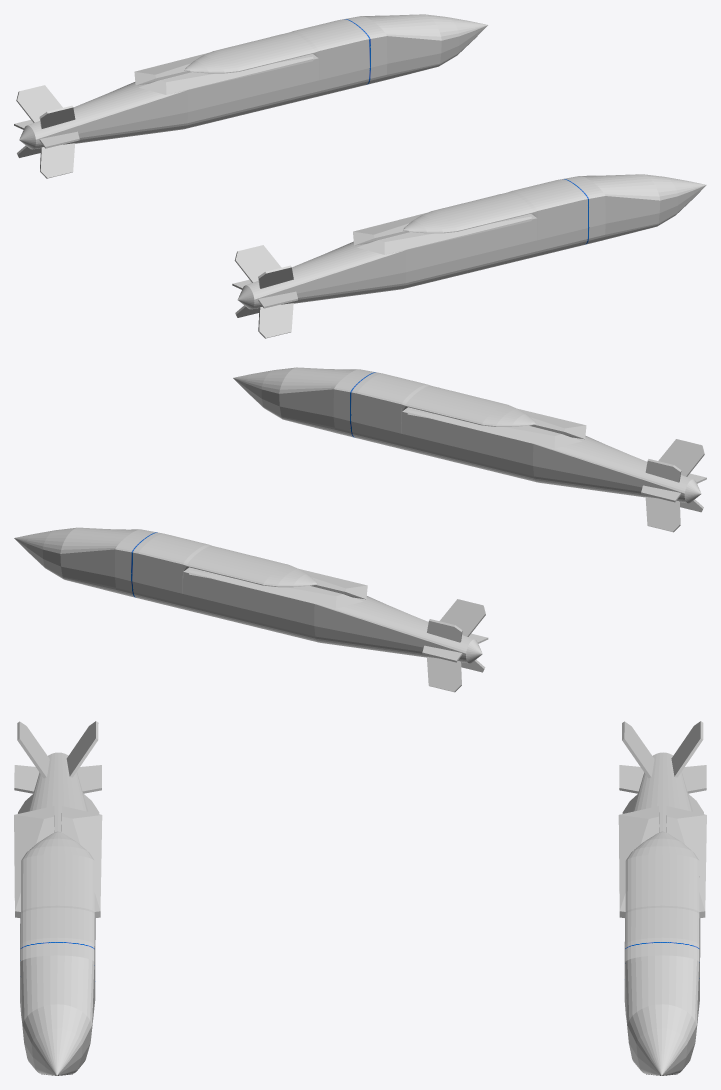
File: f16cagm15423.glb
3 renders of one model, top to bottom at view 1: azimuth 30°, elevation 25°; view 2: azimuth 150°, elevation 25°; view 3: azimuth 270°, elevation 25°, orthographic. The views are drawn at different scales.
Visible parts, largest first — view 1: 立方体.003, 立方体.049; view 2: 立方体.003, 立方体.049; view 3: 立方体.049, 立方体.003.
Part boxes in pixels (box(x1,y1,x2,y2)): 立方体.003: box(232, 174, 706, 338); 立方体.049: box(14, 14, 487, 178); 立方体.003: box(233, 367, 706, 532); 立方体.049: box(14, 527, 488, 692); 立方体.049: box(618, 721, 706, 1075); 立方体.003: box(14, 721, 102, 1075).
Bounding box in the file's own units: 5.26 × 0.7224 × 4.86.
5 materials, 1 textured.
